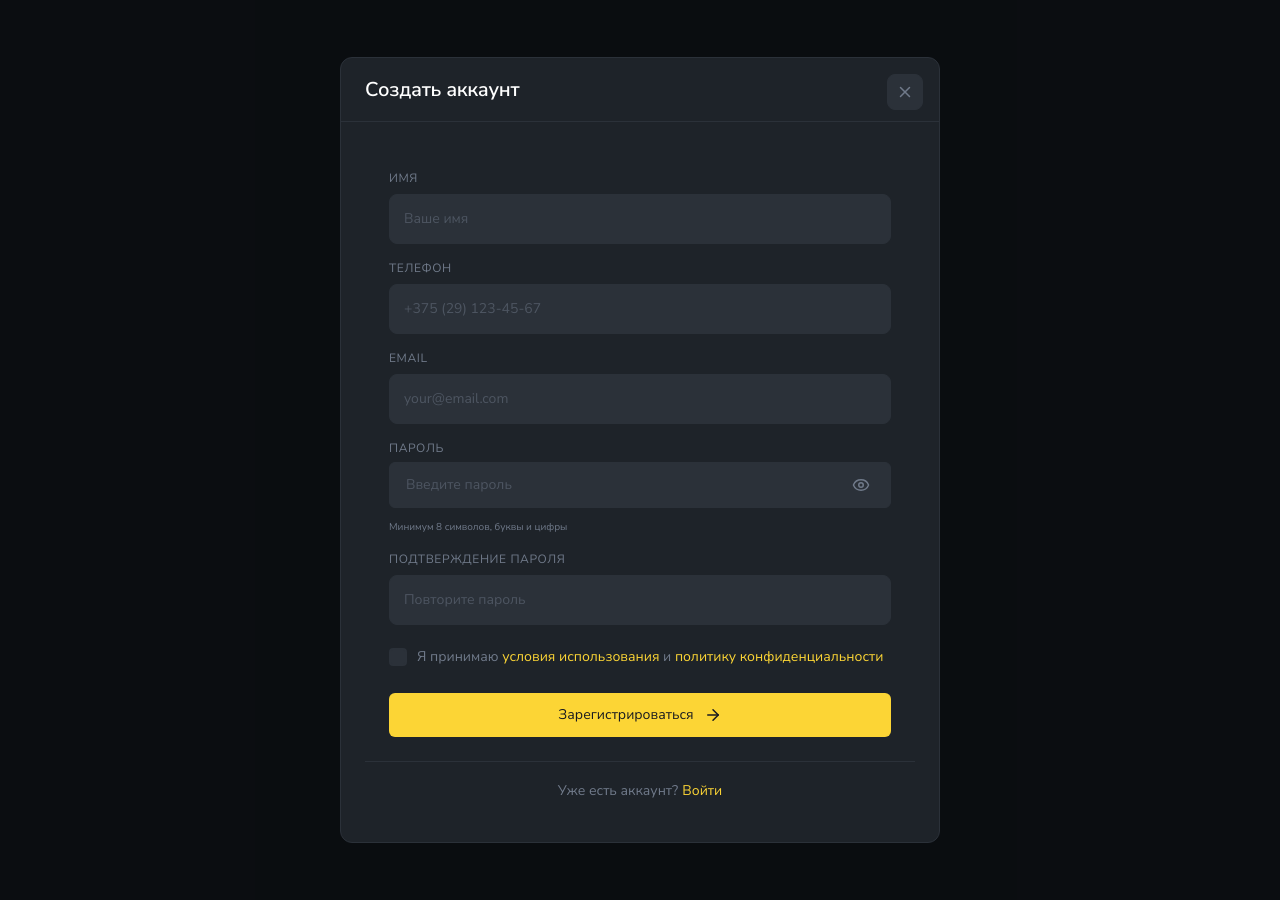
Scenario: RegisterModal › validates empty email on submit
Type "Иван" into the field with placeholder "Ваше имя" at coordinates (640, 219), box [389,194,891,244]
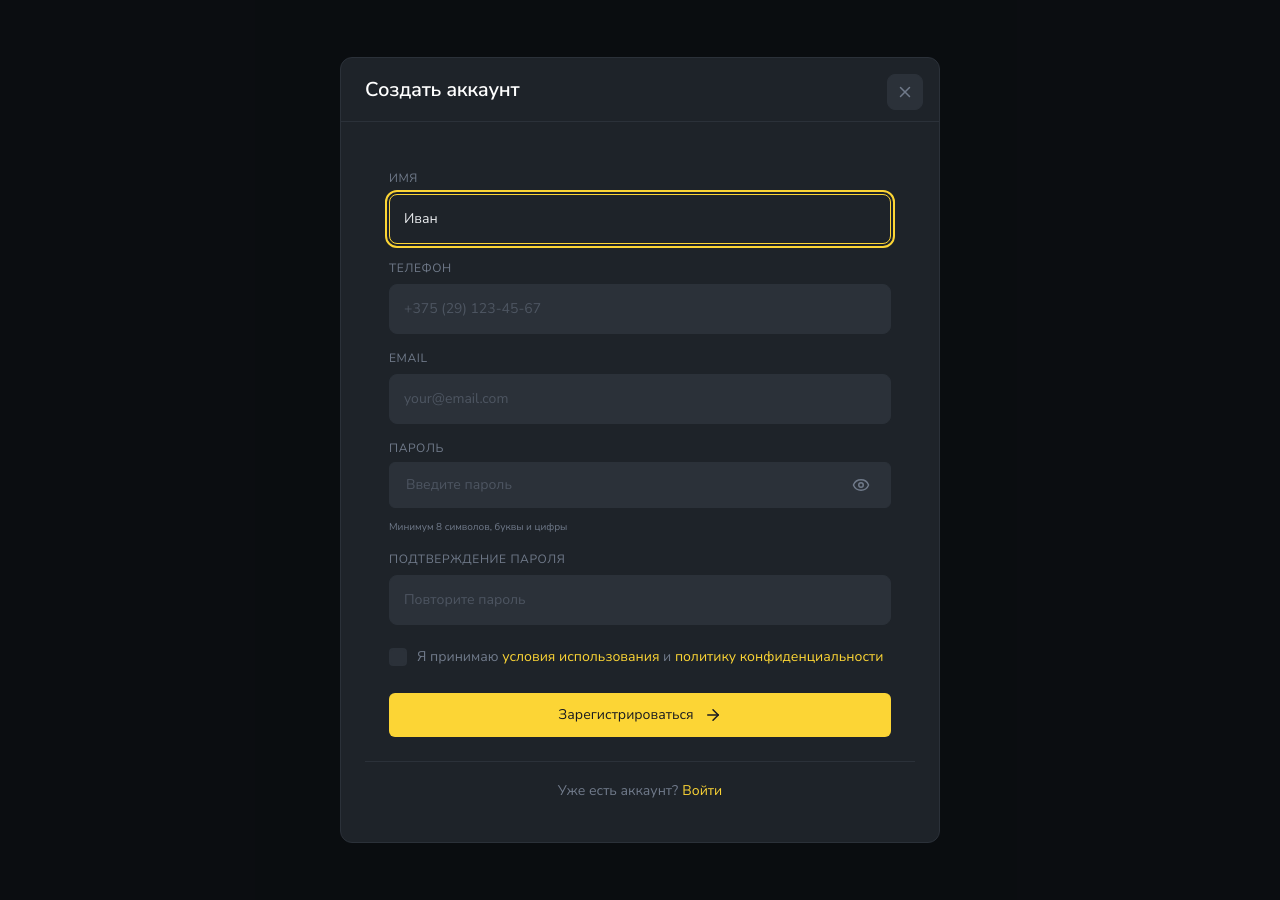
Type "291234567" into the field with placeholder "+375 (29) 123-45-67" at coordinates (640, 309), box [389,284,891,334]
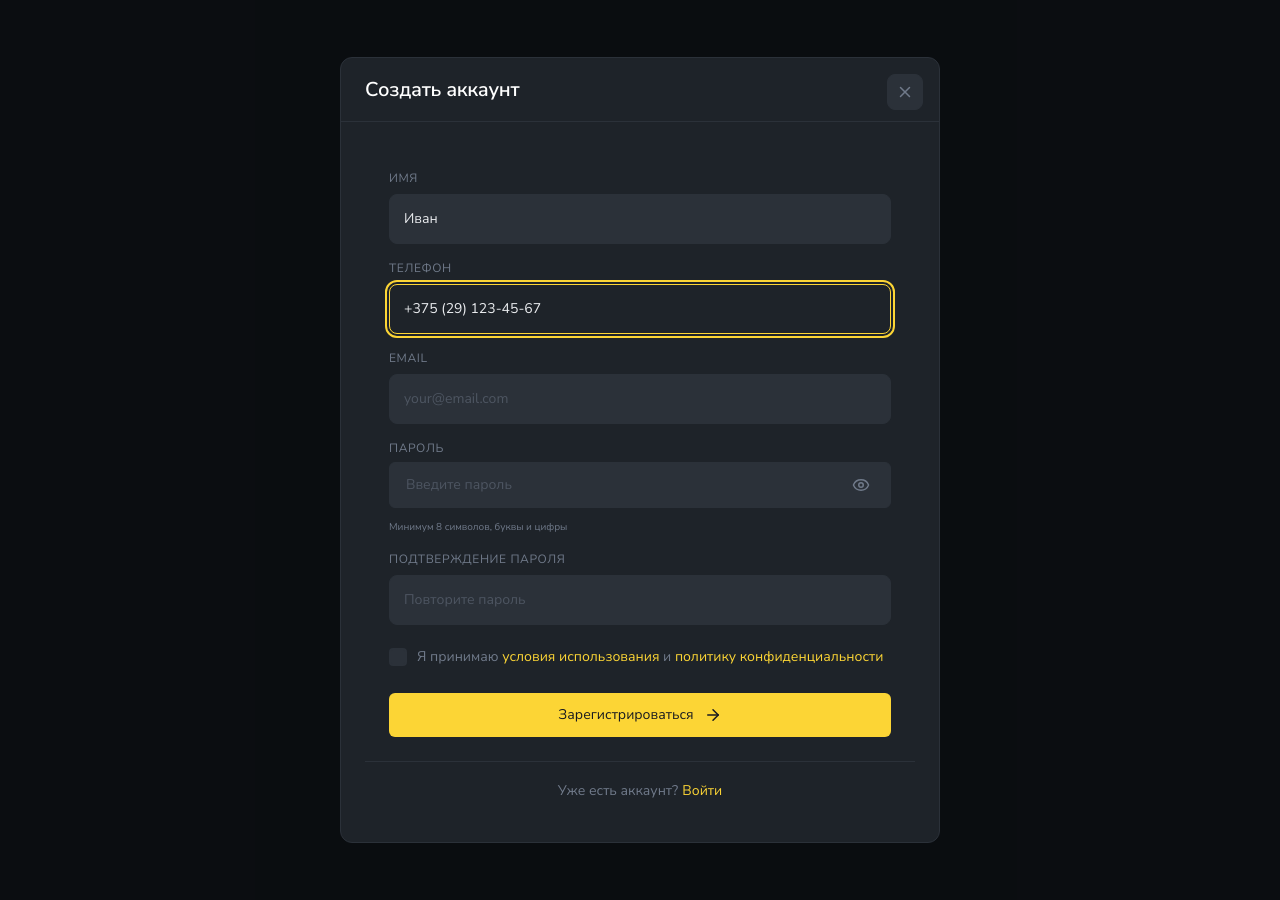
Leave email empty - native required blocks in browser, but we test backend validation
Type "Strong1!Pass" into the password field labelled "Пароль" at coordinates (640, 485), box [389,462,891,508]
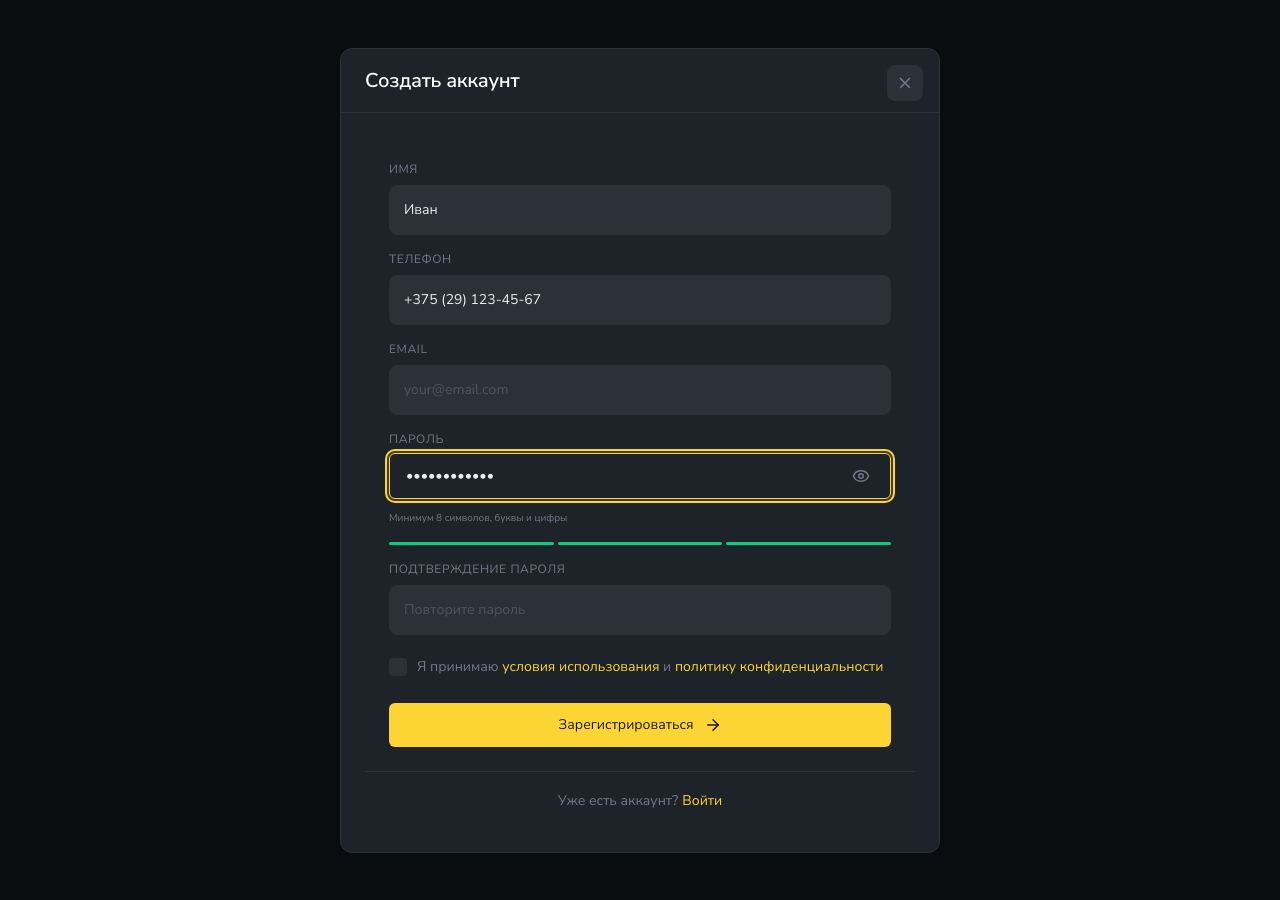
Type "Strong1!Pass" into the password field with placeholder "Повторите пароль" at coordinates (640, 610), box [389,584,891,634]
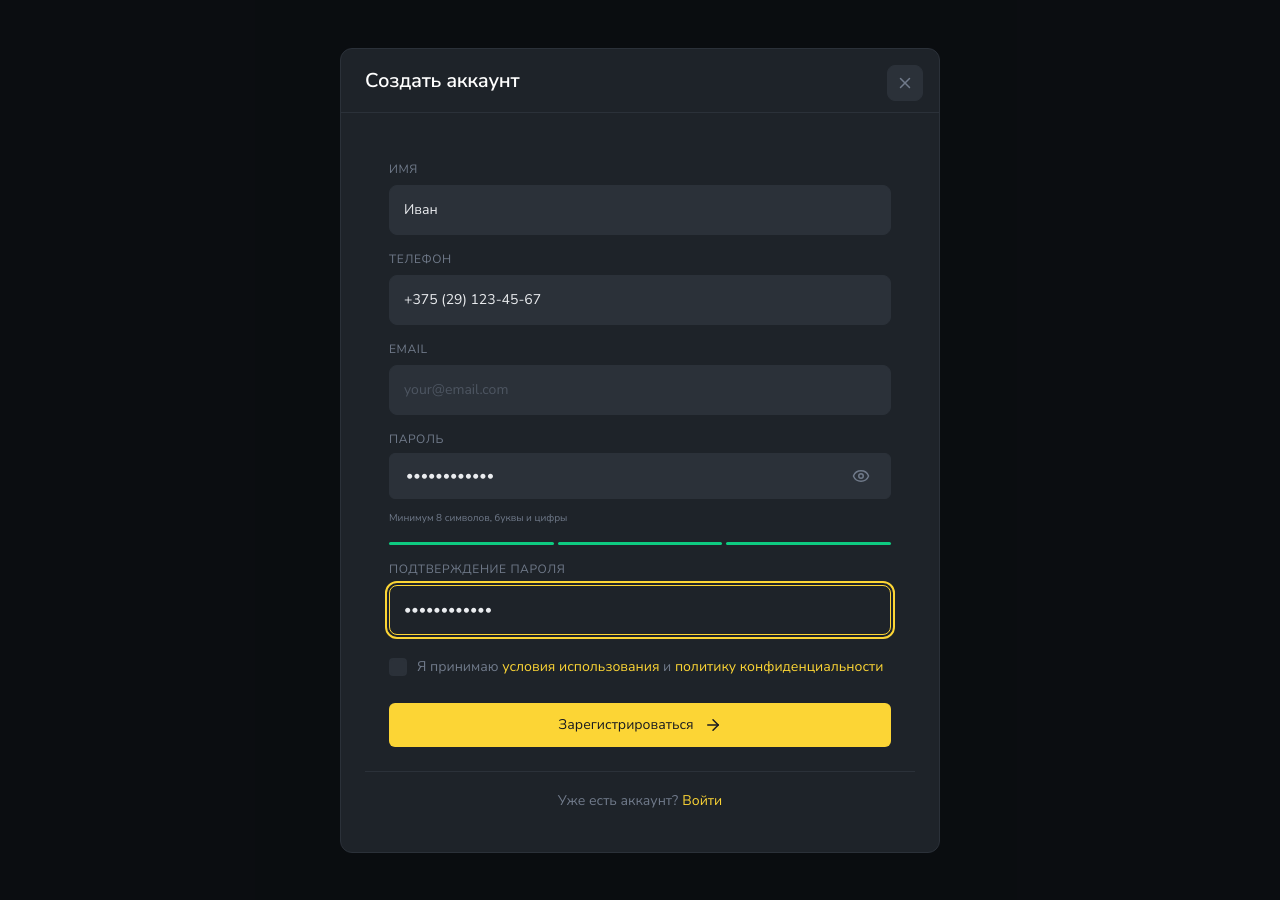
Click the checkbox labelled "Я принимаю" at coordinates (650, 666), box [417,654,884,678]
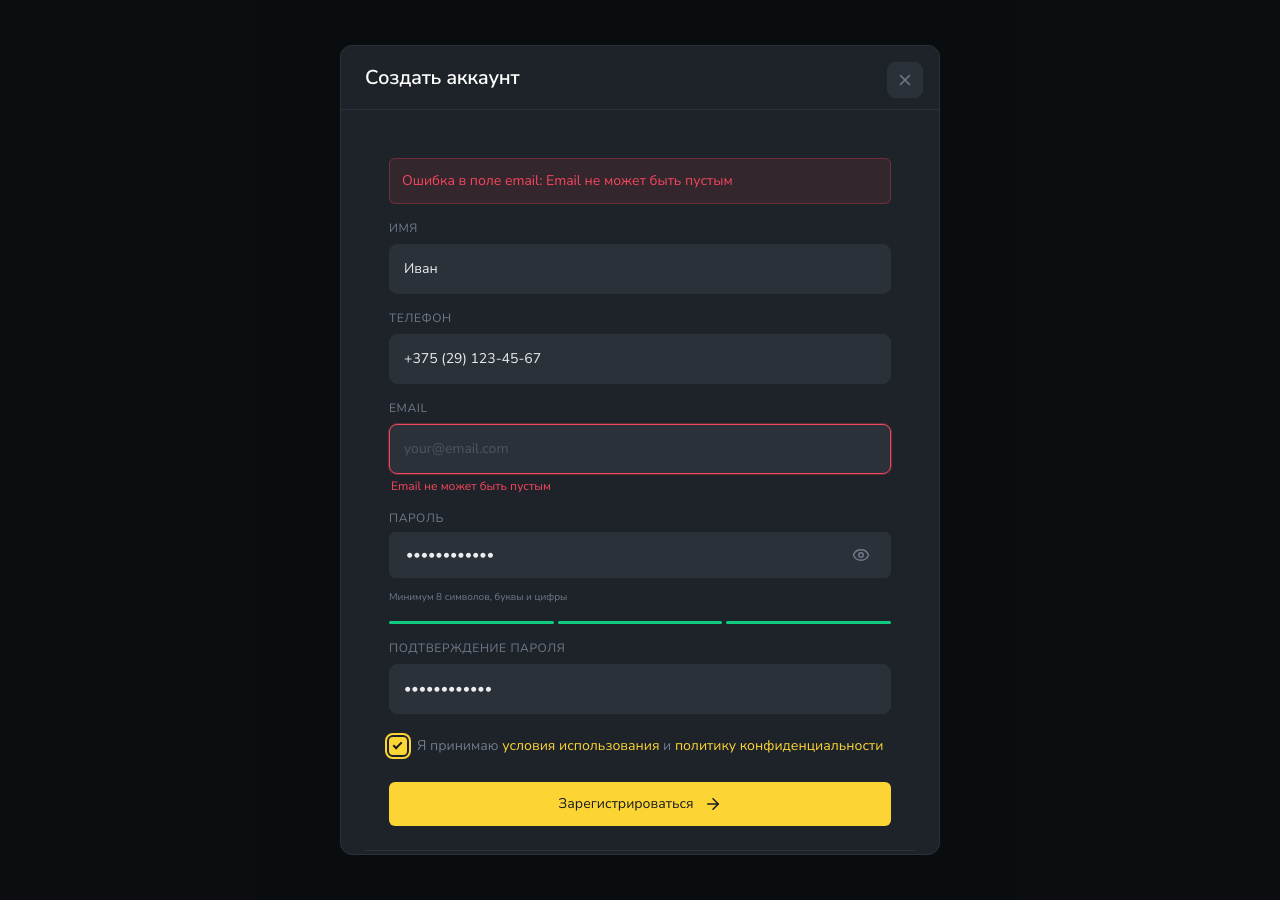
Check: the text "Email не может быть пустым" is shown, box [391,478,551,494]
